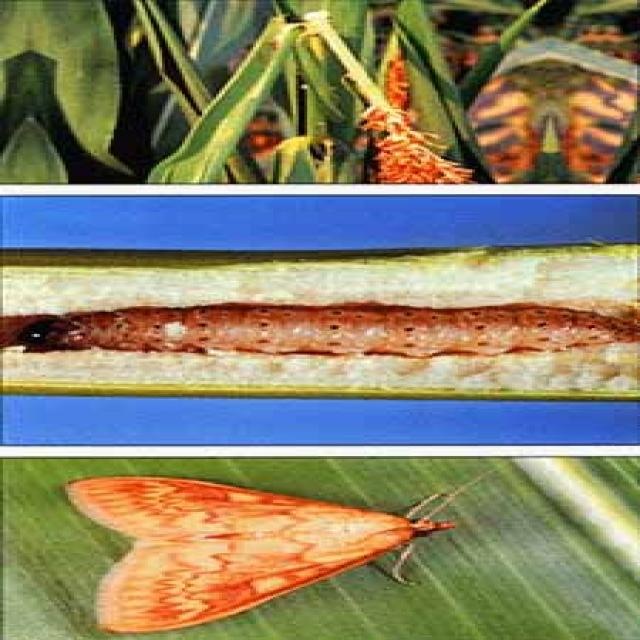cornborer-Adult-: (58, 463, 480, 635)
cornborer-Larva-: (11, 293, 637, 364)
